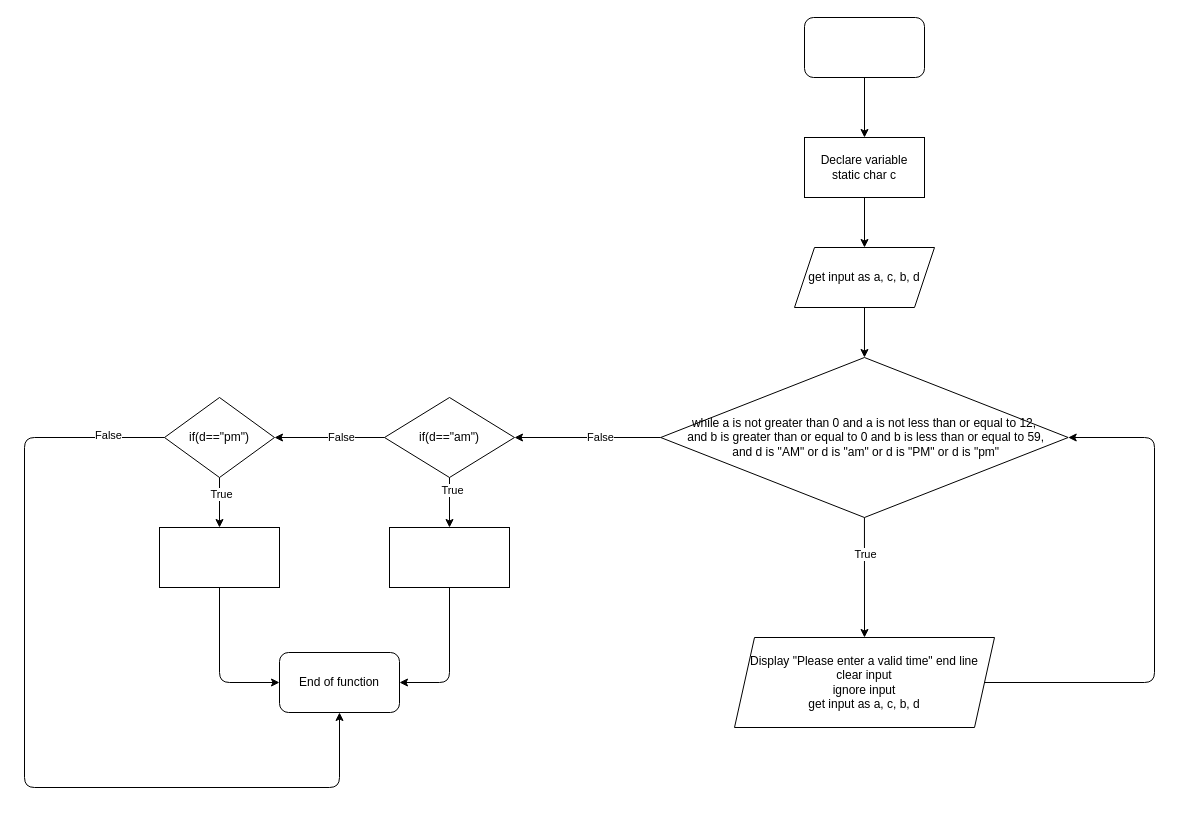
Image size: 1180x813. Some labels were removed from this diagram. Here are the shapes that lost their labels. From the top down, the box of each, then its label:
(804, 16, 924, 78): getTime
(158, 526, 280, 588): set d = "PM"
(388, 526, 510, 588): set d = "AM"
